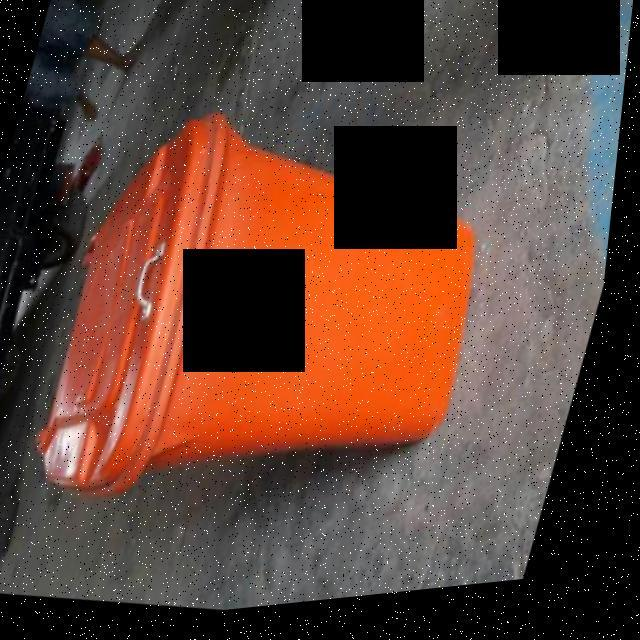bin: (0, 37, 552, 585)
